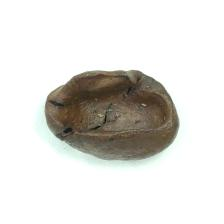NG: (51, 72, 175, 142)
